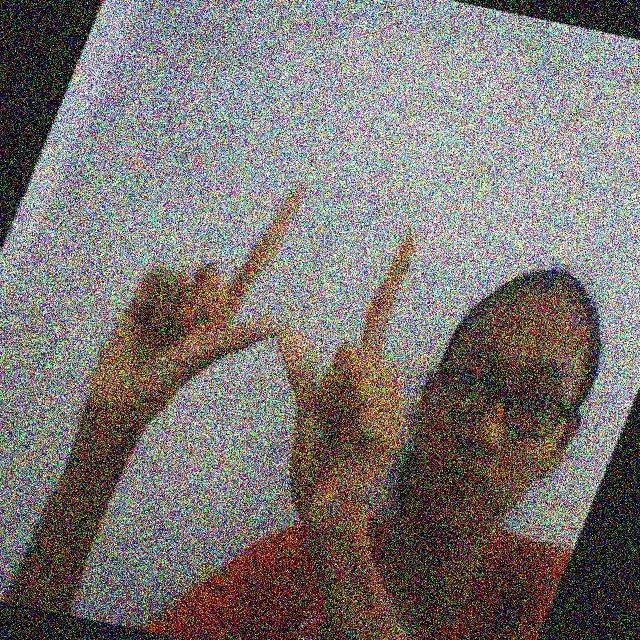W: (85, 176, 429, 508)
